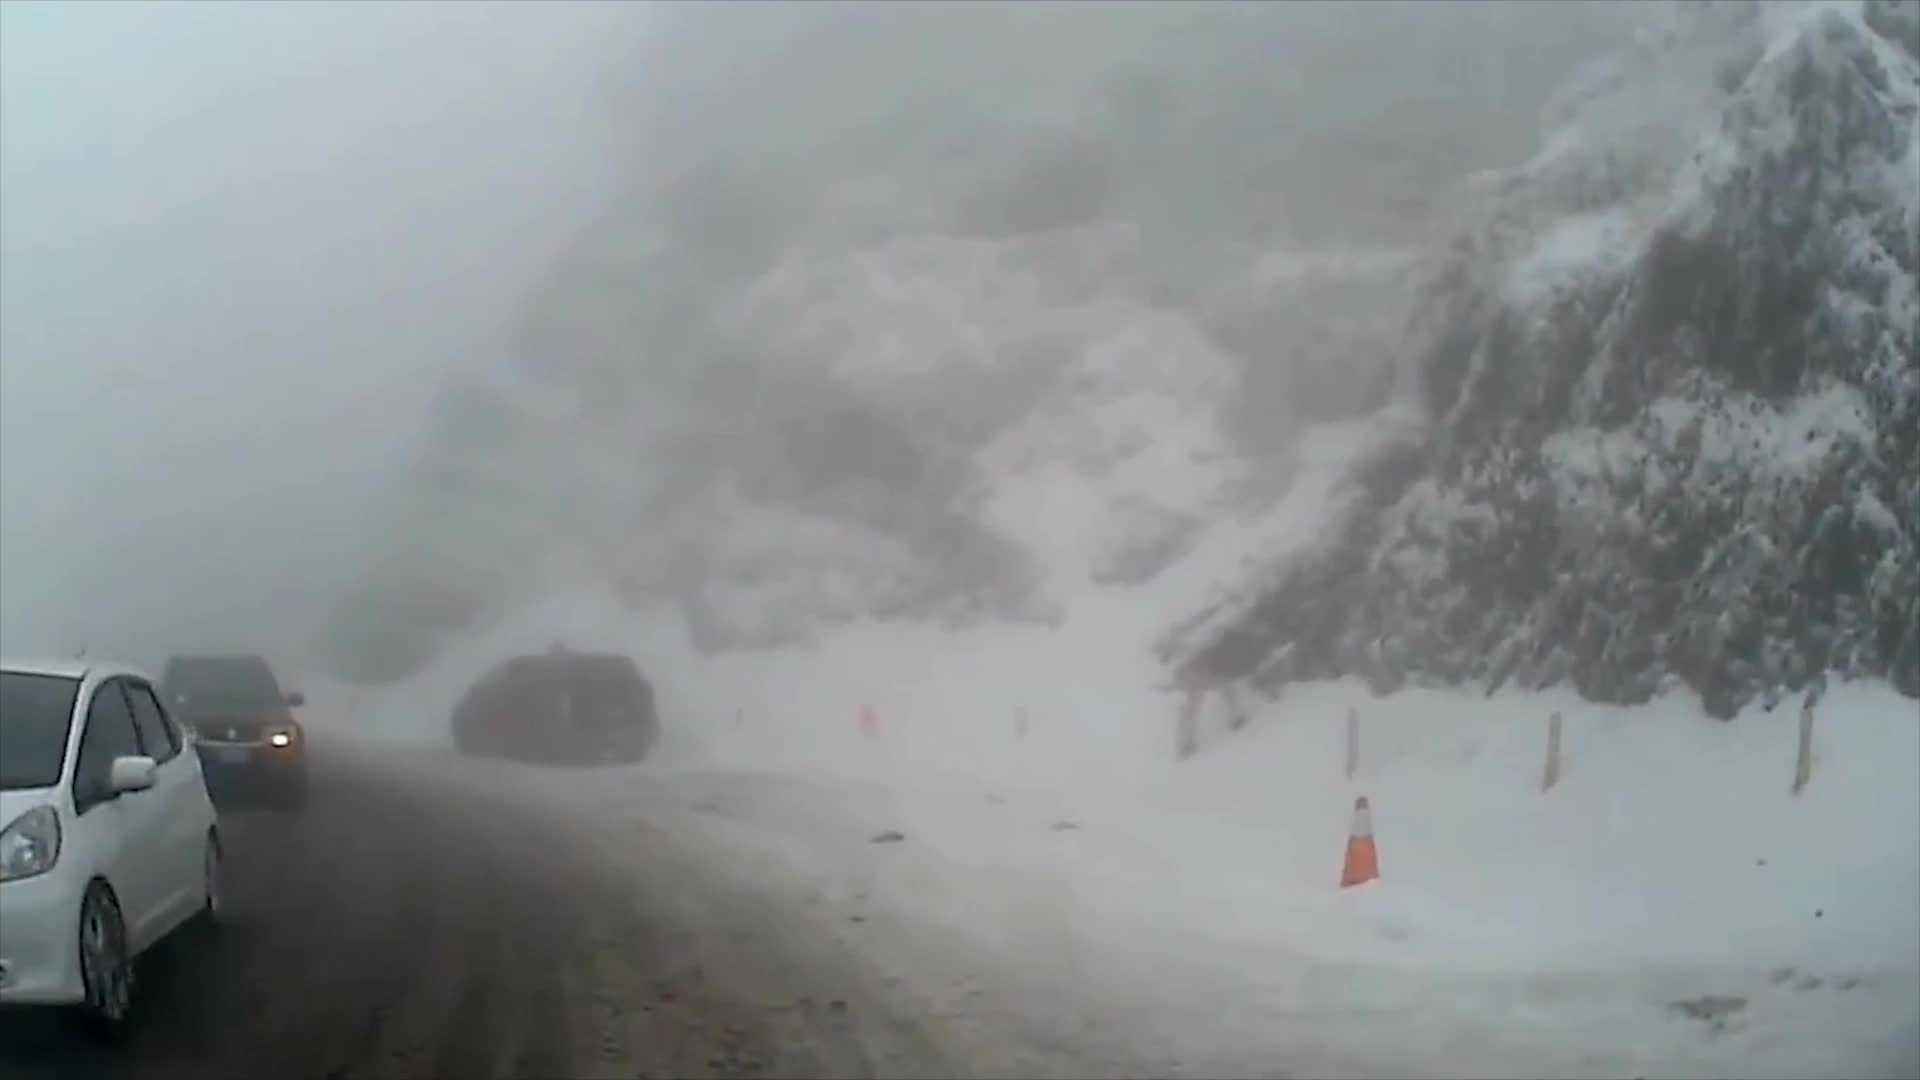vehicle: (0, 653, 228, 1036), (132, 647, 309, 810), (448, 649, 655, 766)
